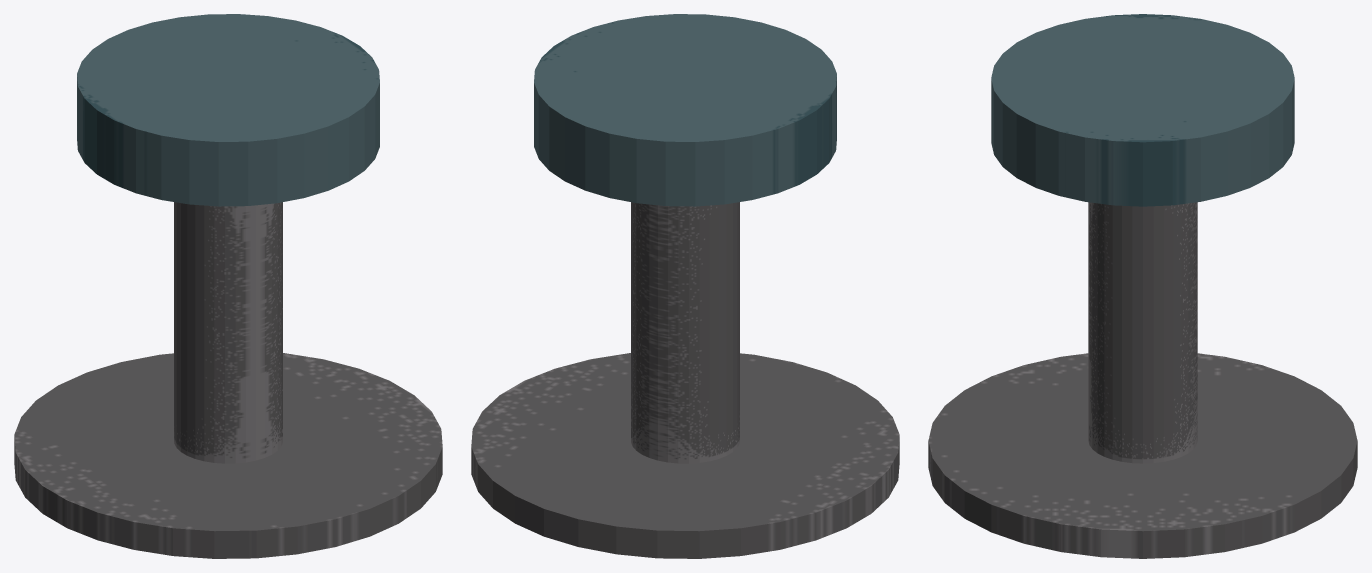
The model's file is เก้าอี้เคาเตอร์.fbx.
3 renders of one model, left to right at view 1: azimuth 30°, elevation 25°; view 2: azimuth 150°, elevation 25°; view 3: azimuth 270°, elevation 25°, orthographic.
Parts seen in each view (by area): view 1: Circle.001; view 2: Circle.001; view 3: Circle.001.
Part boxes in pixels (x1=…): Circle.001: x1=14, y1=14, x2=442, y2=558; Circle.001: x1=471, y1=14, x2=899, y2=558; Circle.001: x1=928, y1=14, x2=1357, y2=558.
Bounding box in the file's own units: 15.01 × 15.06 × 15.01.
Materials: 1 (1 with a texture image).
